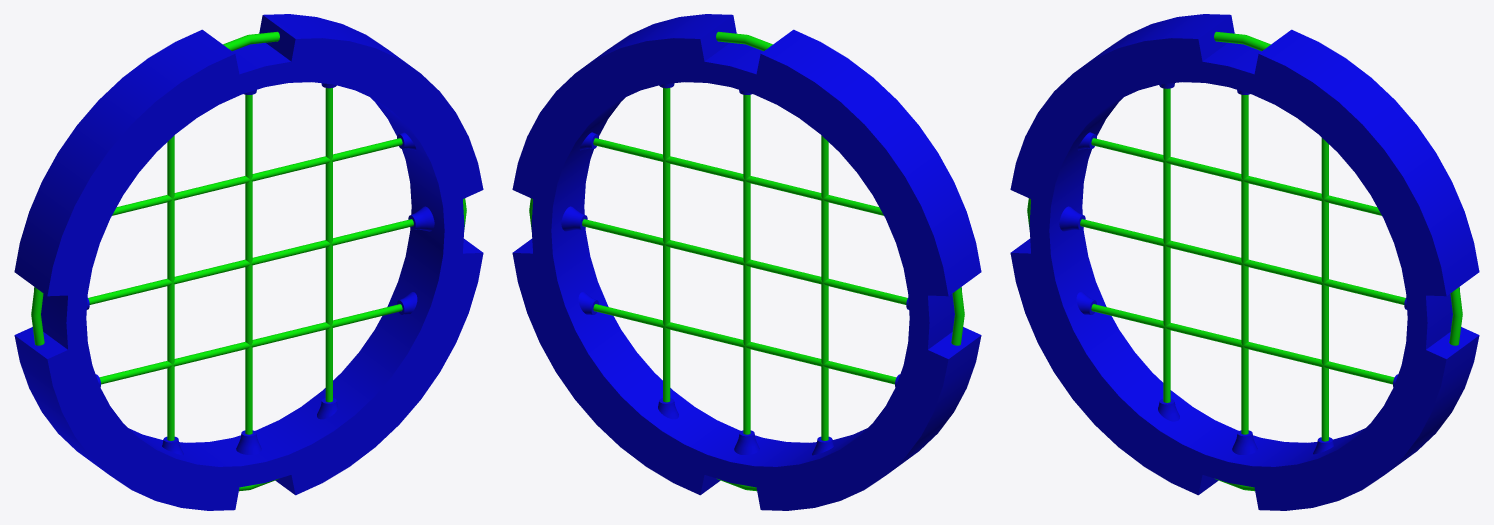
File: Ring_LP.fbx
3 renders of one model, left to right at view 1: azimuth 30°, elevation 25°; view 2: azimuth 150°, elevation 25°; view 3: azimuth 330°, elevation 25°, orthographic.
Parts seen in each view (by area): view 1: Ring, pCylinder4, pCylinder2, pCylinder8, pCylinder7, pCylinder6, pCylinder5, Ring_Emissive; view 2: Ring, pCylinder4, pCylinder2, pCylinder8, pCylinder7, pCylinder6, pCylinder5, Ring_Emissive; view 3: Ring, pCylinder4, pCylinder2, pCylinder6, pCylinder7, pCylinder8, pCylinder5, Ring_Emissive.
Boxes of the visible parts, <box> form: Ring: <box>14,14,483,510</box>; pCylinder4: <box>245,94,252,434</box>; pCylinder2: <box>88,219,413,304</box>; pCylinder8: <box>325,88,332,402</box>; pCylinder7: <box>99,304,402,384</box>; pCylinder6: <box>167,135,174,440</box>; pCylinder5: <box>112,138,402,215</box>; Ring_Emissive: <box>31,31,466,491</box>; Ring: <box>512,14,981,510</box>; pCylinder4: <box>743,94,750,434</box>; pCylinder2: <box>582,219,907,304</box>; pCylinder8: <box>663,88,670,402</box>; pCylinder7: <box>593,304,896,384</box>; pCylinder6: <box>821,135,828,440</box>; pCylinder5: <box>593,138,883,215</box>; Ring_Emissive: <box>529,31,964,491</box>; Ring: <box>1010,14,1479,510</box>; pCylinder4: <box>1241,94,1248,434</box>; pCylinder2: <box>1080,219,1405,304</box>; pCylinder6: <box>1163,88,1170,402</box>; pCylinder7: <box>1091,304,1394,384</box>; pCylinder8: <box>1321,138,1328,441</box>; pCylinder5: <box>1091,138,1381,215</box>; Ring_Emissive: <box>1027,31,1462,491</box>.
Size of the model in its own units: 2.19 by 2.19 by 0.2869.
